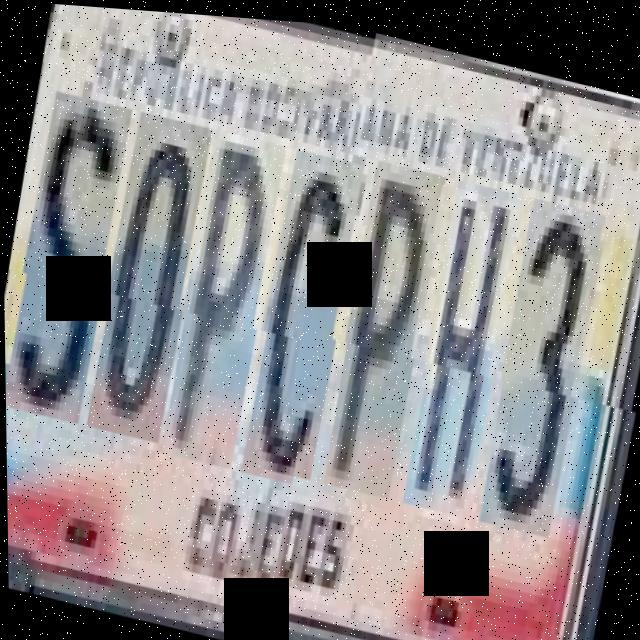3: (473, 195, 612, 544)
C: (237, 140, 372, 490)
H: (397, 178, 528, 525)
O: (83, 105, 220, 447)
P: (157, 123, 296, 471), (317, 159, 452, 509)
S: (1, 86, 140, 428)
